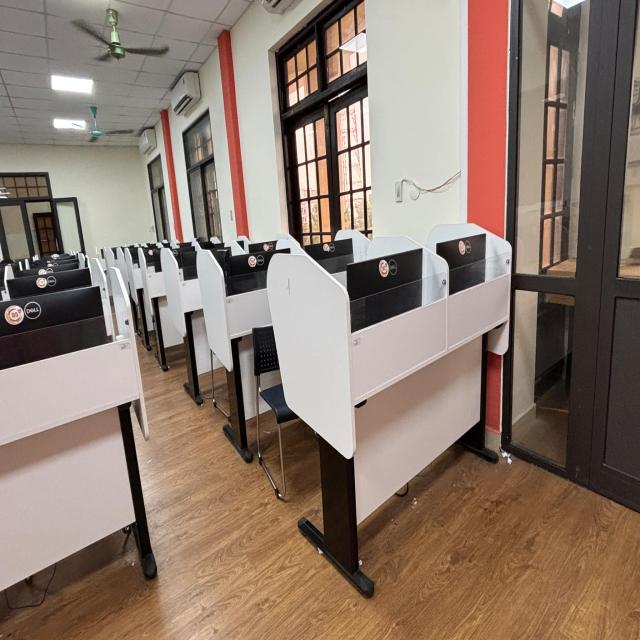door: (501, 0, 639, 512)
obstacle: (265, 220, 512, 591)
